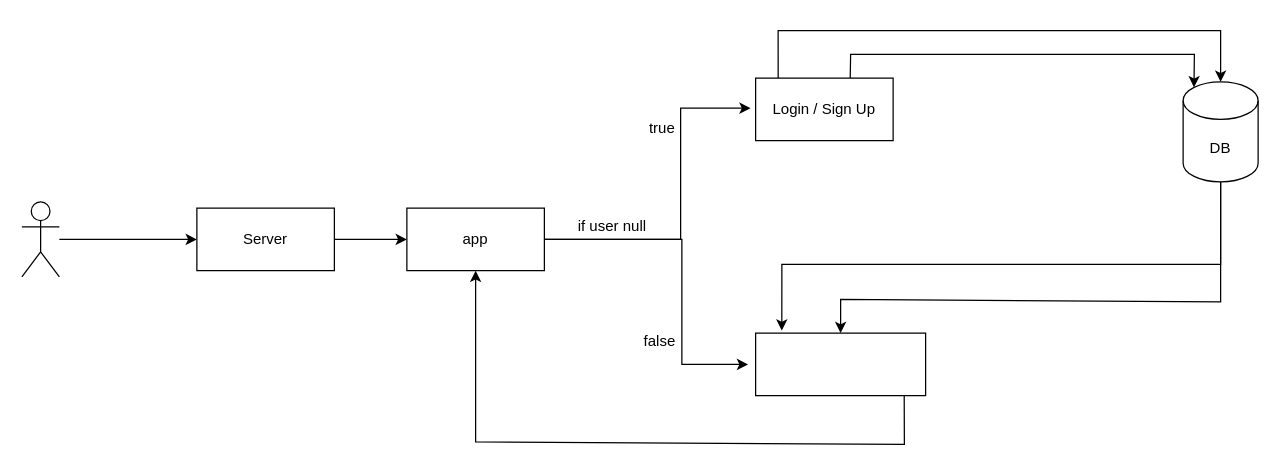
Some shapes in this 1280 by 476 pixel diagram are drawn without their labels. The shapes that lost their labels are listed below. From the top down, each one's centre as x and y in pixels, then its label:
At point 40,239: "User".
At point 840,364: "Home/Progress/Logout".
